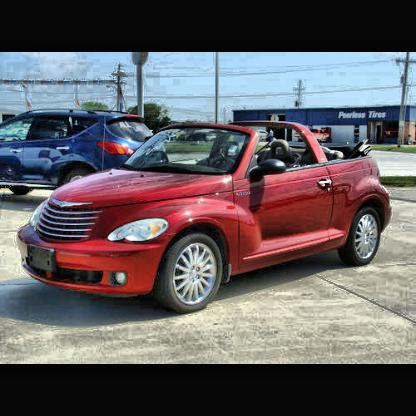Chrysler PT Cruiser Convertible 2008: (19, 121, 391, 314)
